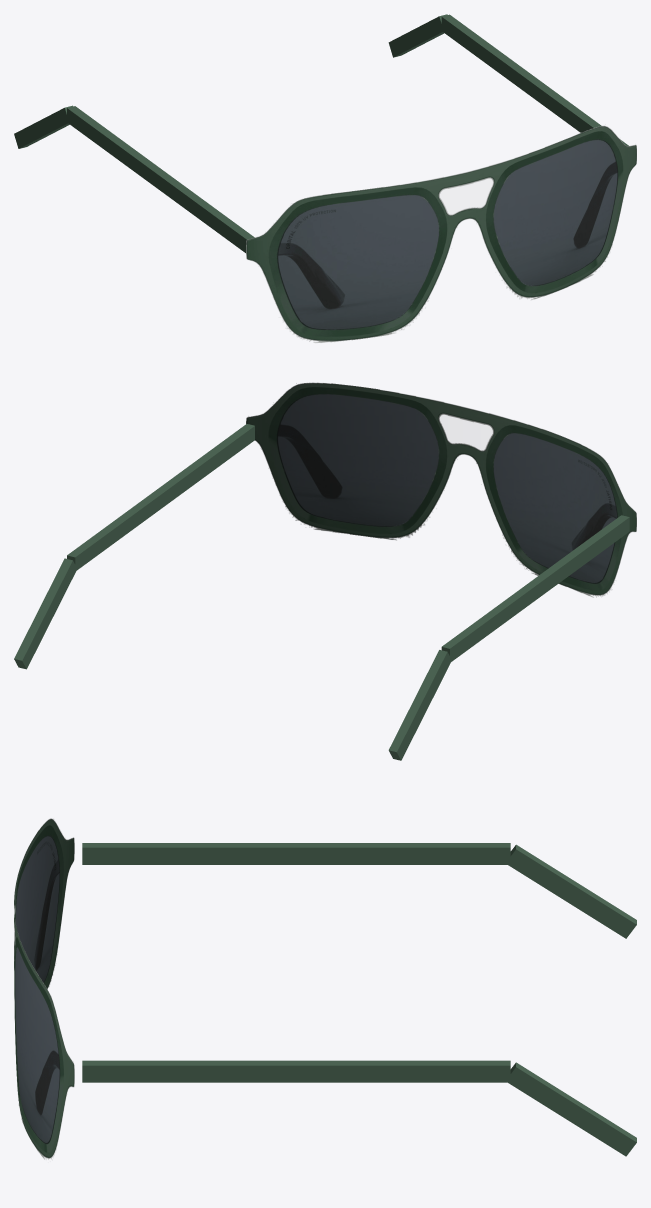
The picture shows the model from 3 angles, top to bottom: view 1: azimuth 30°, elevation 25°; view 2: azimuth 150°, elevation 25°; view 3: azimuth 270°, elevation 25°; orthographic projection. The views are drawn at different scales.
Visible parts, largest first — view 1: anteojo; view 2: anteojo; view 3: anteojo.
Boxes of the visible parts, x1,y1,x2,y2 form: anteojo: [14, 14, 636, 342]; anteojo: [14, 382, 636, 760]; anteojo: [14, 818, 636, 1159].
Bounding box in the file's own units: 0.142 × 0.0517 × 0.1644.
Materials: 2 (1 with a texture image).
